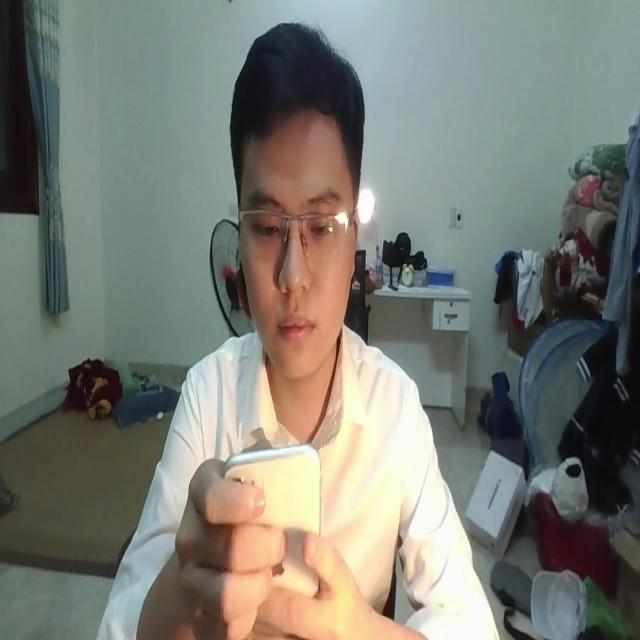phone: (218, 444, 326, 606)
student: (91, 26, 499, 640)
